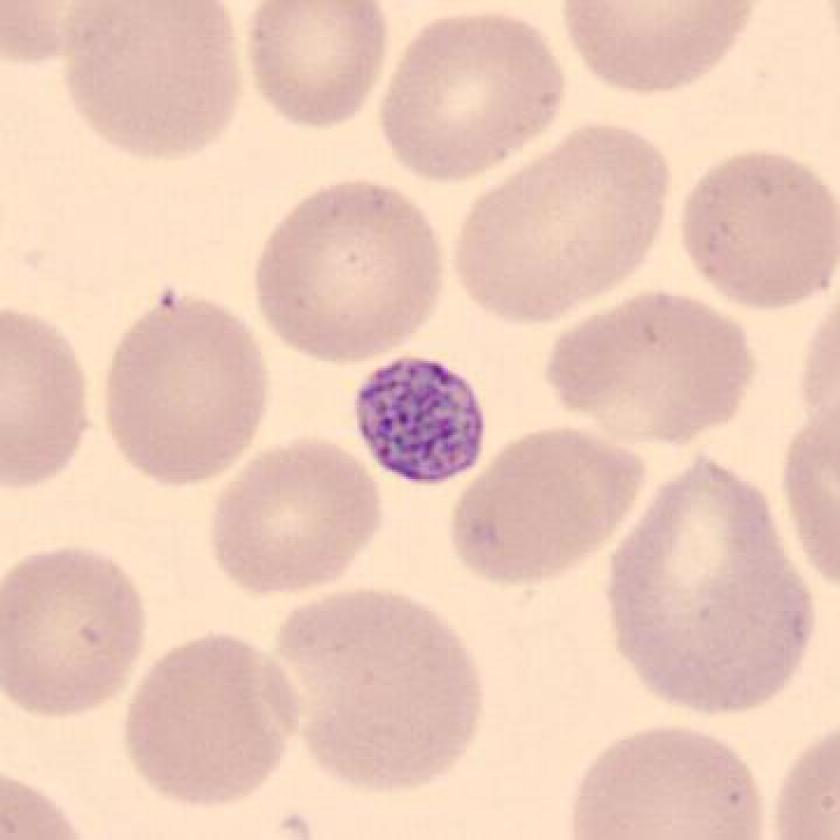platelets: (344, 343, 500, 501)
